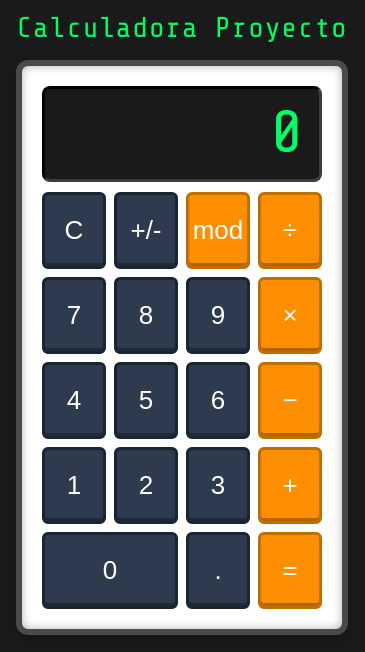
Test: Calculator Additional Functional Tests (Selectors Fixed) › should perform subtraction and show 5 − 8 = -3 (negative result)
Click the button "5" at (146, 400), box [114, 362, 178, 438]
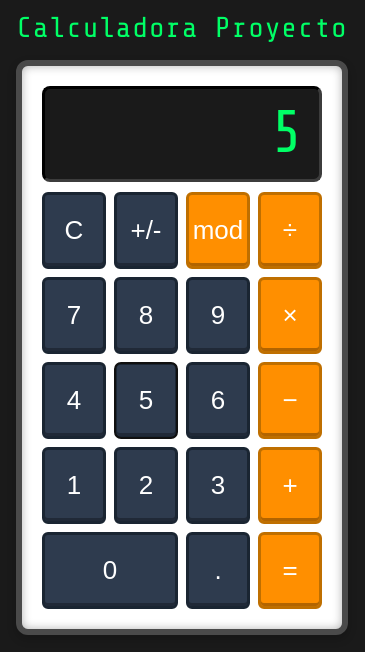
Click the button "−" at (290, 400), box [258, 362, 322, 438]
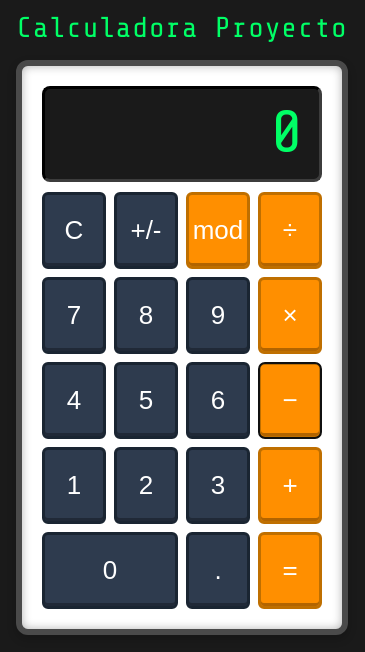
Click the button "8" at (146, 315), box [114, 276, 178, 354]
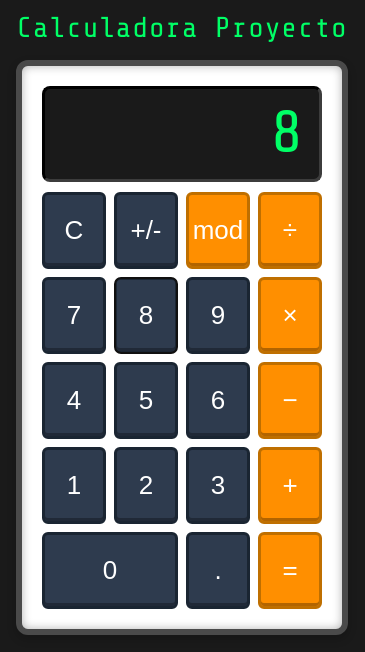
Click the button "=" at (290, 570), box [258, 532, 322, 608]
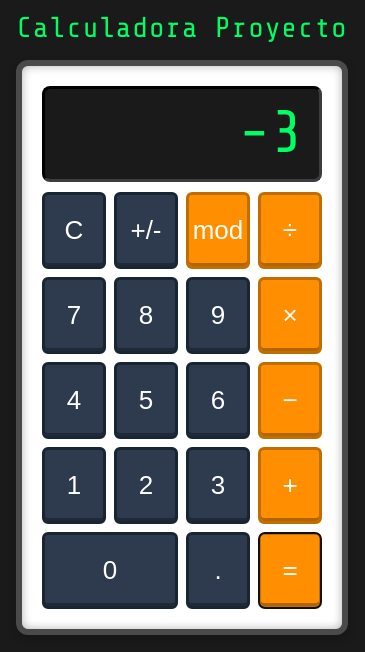
Result: the text with test id "display" reads "-3" at [238, 98, 303, 166]
